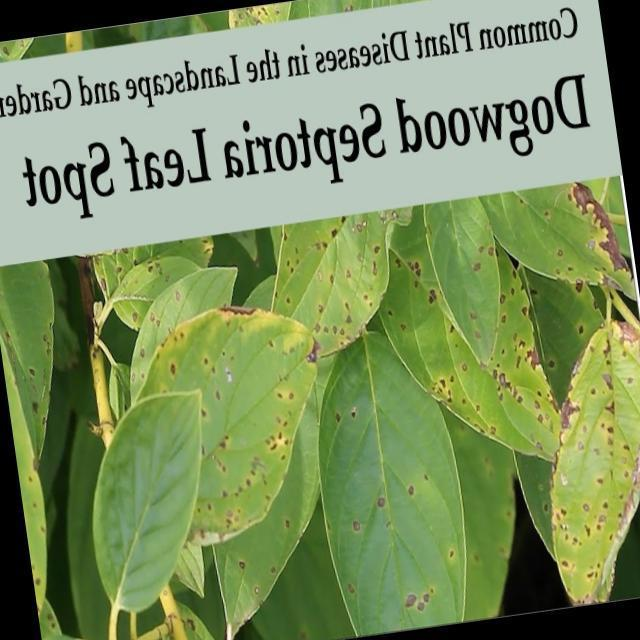Septoria: (140, 306, 342, 550), (394, 238, 562, 450), (524, 316, 640, 609), (334, 436, 472, 637), (266, 212, 408, 364), (526, 172, 638, 296), (99, 236, 228, 332)
